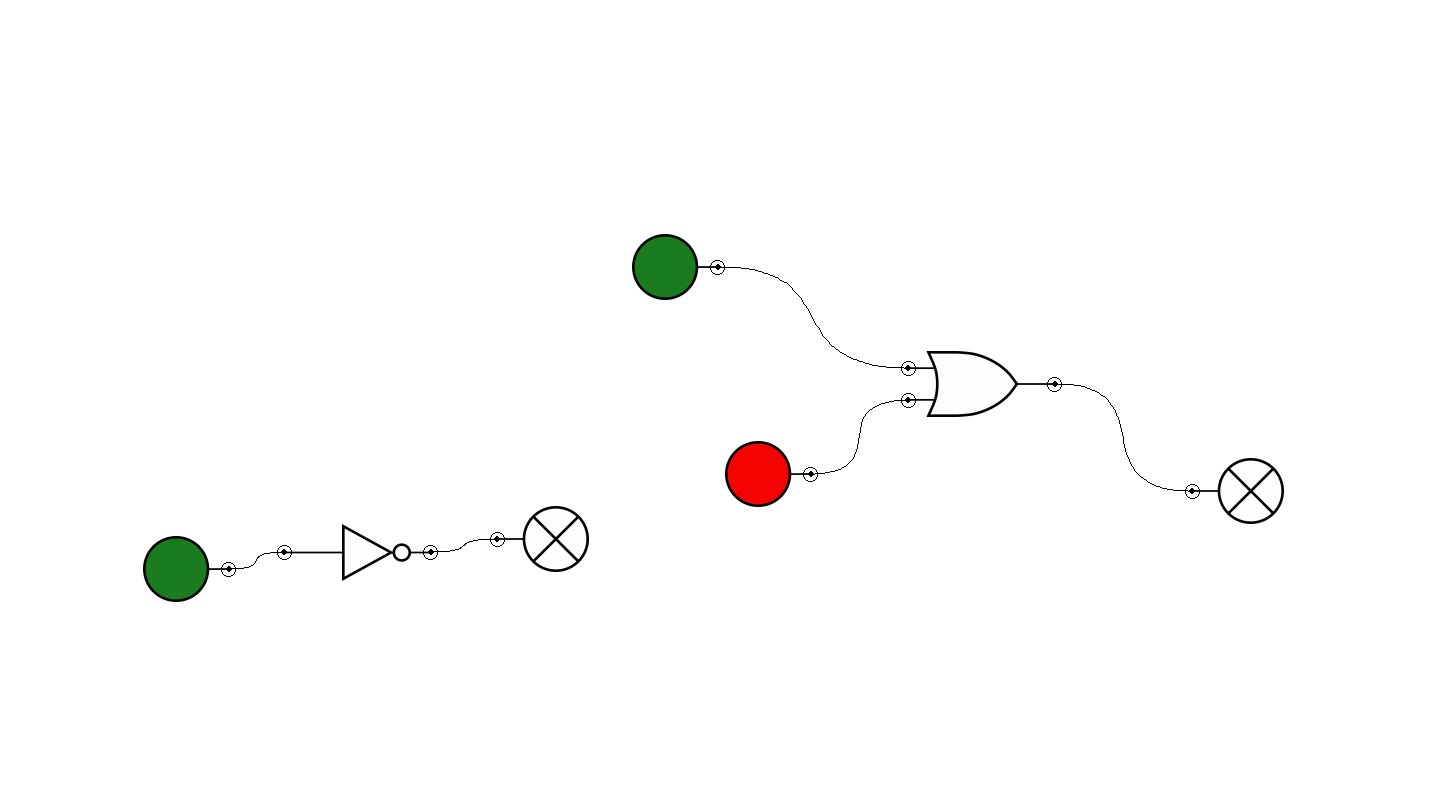bulb: (490, 506, 589, 572), (1185, 458, 1284, 524)
not: (277, 524, 438, 581)
or: (901, 351, 1062, 417)
switch_False: (725, 441, 818, 507)
switch_True: (632, 234, 725, 300), (143, 536, 236, 602)
